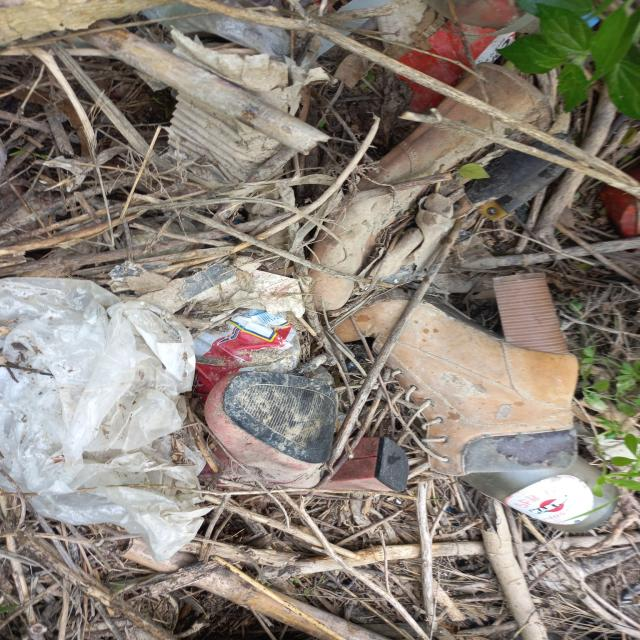Bottle: (457, 455, 620, 533), (421, 0, 599, 36)
Carton: (171, 30, 334, 115), (165, 89, 278, 185)
Other litter: (306, 62, 555, 312), (329, 273, 579, 475), (70, 17, 331, 155), (200, 374, 410, 495), (390, 16, 517, 118), (109, 256, 304, 313), (599, 166, 640, 240)
Other plastic: (146, 0, 389, 61), (182, 309, 302, 401), (465, 130, 577, 223)
Plastic bag - wrapper: (0, 277, 211, 563)
